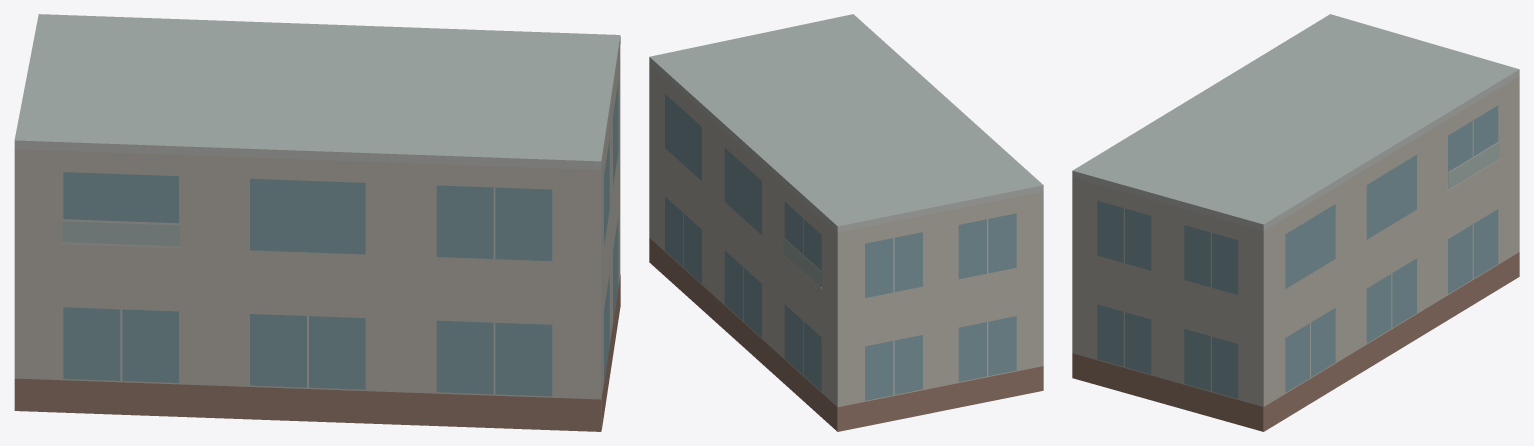
Rendered from survey-upis-32634958.glb.
3 views of the same model, side by side, from view 1: azimuth 30°, elevation 25°; view 2: azimuth 150°, elevation 25°; view 3: azimuth 270°, elevation 25° (orthographic). The views are drawn at different scales.
Visible parts, largest first — view 1: survey-upis-32634958.tmp; view 2: survey-upis-32634958.tmp; view 3: survey-upis-32634958.tmp.
Part boxes in pixels (box(x1,y1,x2,y2)): survey-upis-32634958.tmp: box(14, 14, 620, 431); survey-upis-32634958.tmp: box(649, 14, 1043, 431); survey-upis-32634958.tmp: box(1072, 14, 1519, 431).
Bounding box in the file's own units: 16.77 × 7.7 × 15.06.
